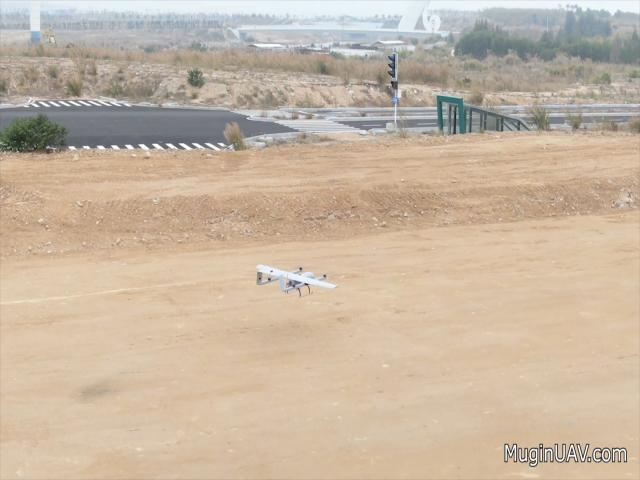plane: (258, 263, 338, 296)
